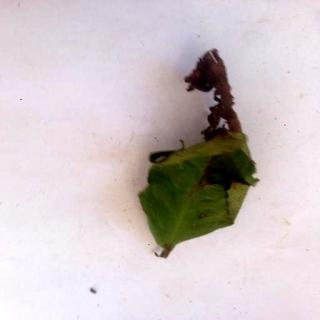Brown Blight: (137, 49, 262, 261)
